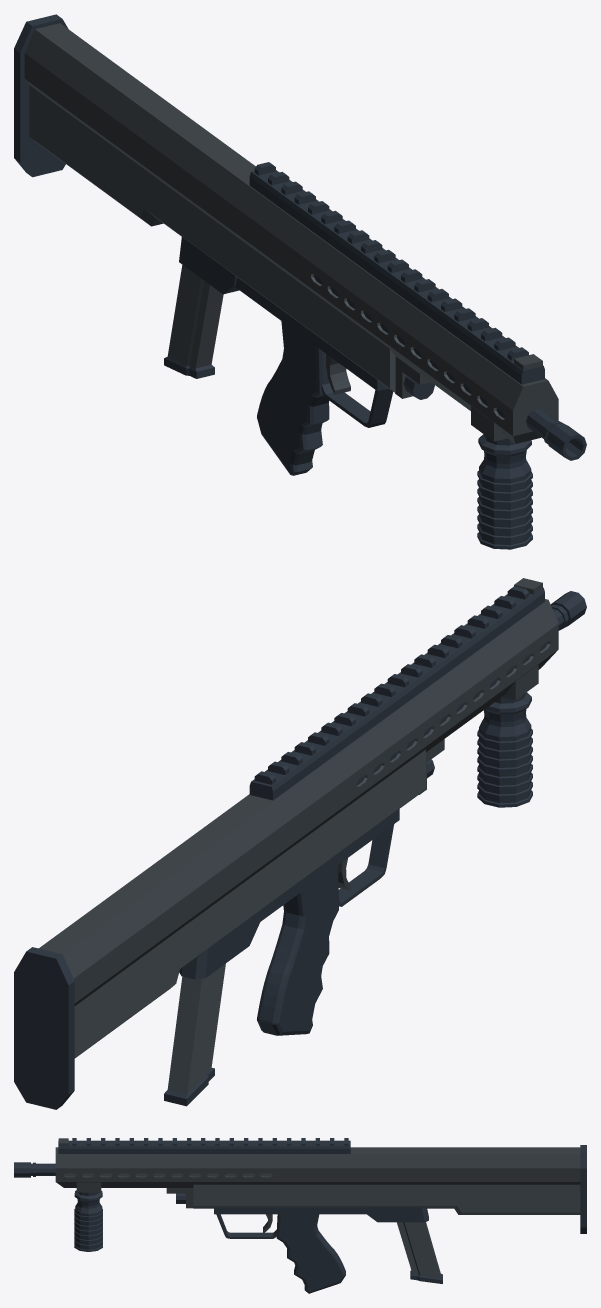
File: bullpup_1.glb
3 renders of one model, top to bottom at view 1: azimuth 30°, elevation 25°; view 2: azimuth 150°, elevation 25°; view 3: azimuth 270°, elevation 25°, orthographic. The views are drawn at different scales.
Parts seen in each view (by area): view 1: bullpup_1; view 2: bullpup_1; view 3: bullpup_1.
Boxes of the visible parts, x1,y1,x2,y2 form: bullpup_1: (14,14,586,549); bullpup_1: (14,578,586,1109); bullpup_1: (14,1138,586,1293).
Bounding box in the file's own units: 0.0449 × 0.2232 × 0.76.
